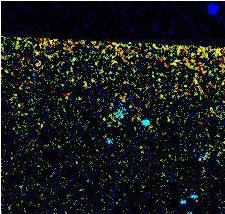star: (89, 106, 119, 136)
